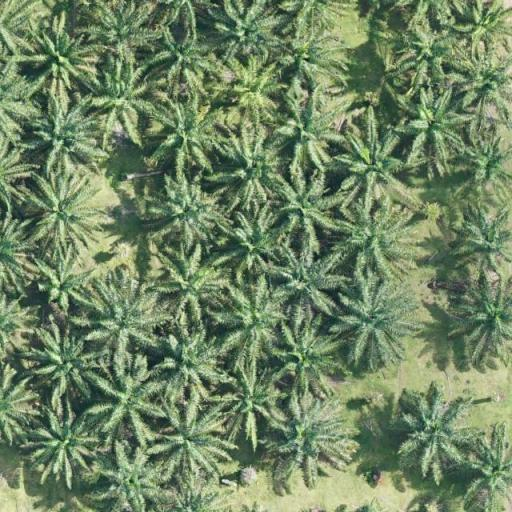Ganoderma: (231, 67, 277, 109)
